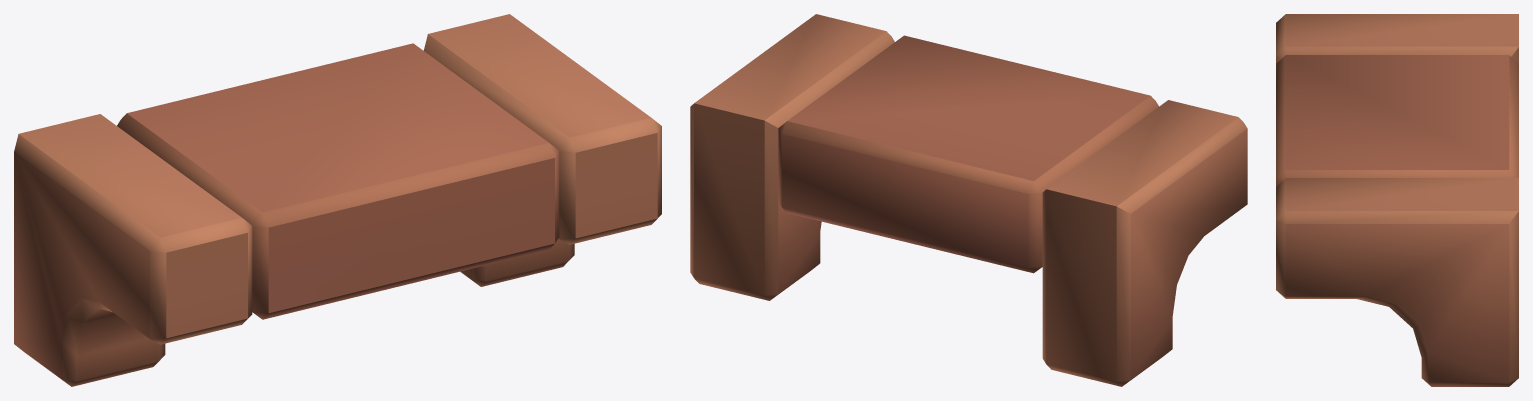
Rendered from kkf.shelf_a_small.glb.
3 renders of one model, left to right at view 1: azimuth 30°, elevation 25°; view 2: azimuth 150°, elevation 25°; view 3: azimuth 270°, elevation 25°, orthographic. The views are drawn at different scales.
Parts seen in each view (by area): view 1: shelf_A_small; view 2: shelf_A_small; view 3: shelf_A_small.
Part boxes in pixels (x1,y1,x2,y2): shelf_A_small: (14, 14, 661, 386); shelf_A_small: (690, 14, 1247, 386); shelf_A_small: (1276, 14, 1518, 386).
Bounding box in the file's own units: 0.7154 × 0.2861 × 0.3578.
1 material, 1 textured.
